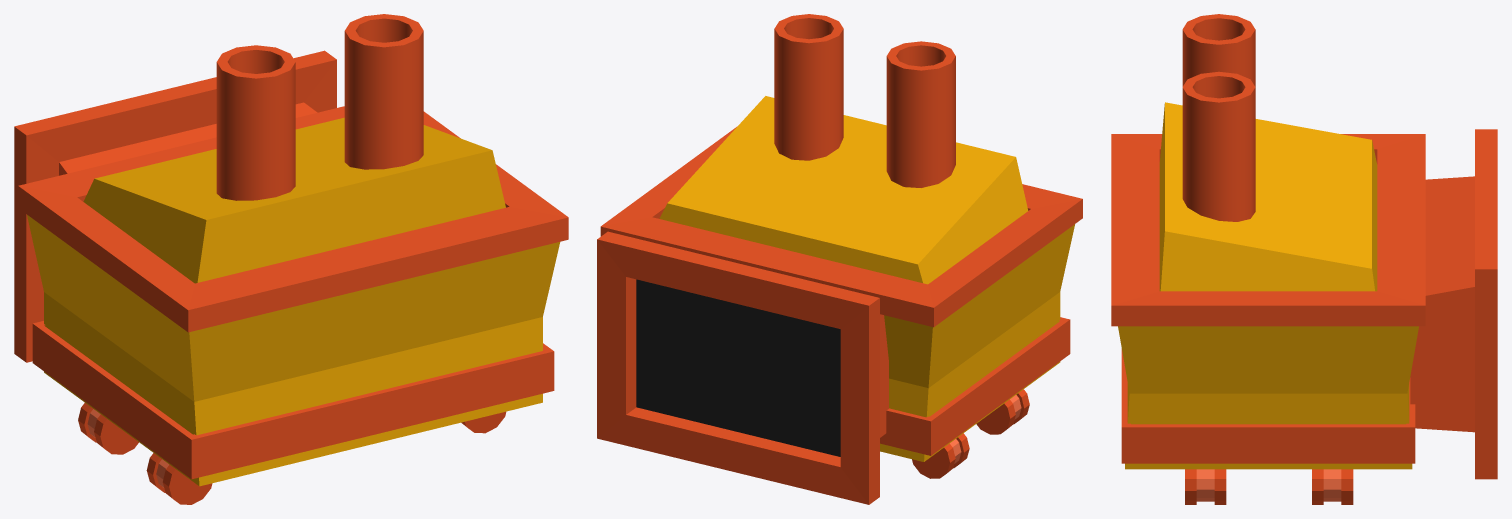
The model's file is Hay Machine Yellow.fbx.
The picture shows the model from 3 angles, left to right: view 1: azimuth 30°, elevation 25°; view 2: azimuth 150°, elevation 25°; view 3: azimuth 270°, elevation 25°; orthographic projection. The views are drawn at different scales.
Visible parts, largest first — view 1: Hay Machine 2; view 2: Hay Machine 2; view 3: Hay Machine 2.
Boxes of the visible parts, left/top/right/bottom form: Hay Machine 2: left=14, top=14, right=568, bottom=504; Hay Machine 2: left=597, top=14, right=1082, bottom=504; Hay Machine 2: left=1111, top=14, right=1497, bottom=504.
Bounding box in the file's own units: 5.82 × 5.98 × 5.53.
